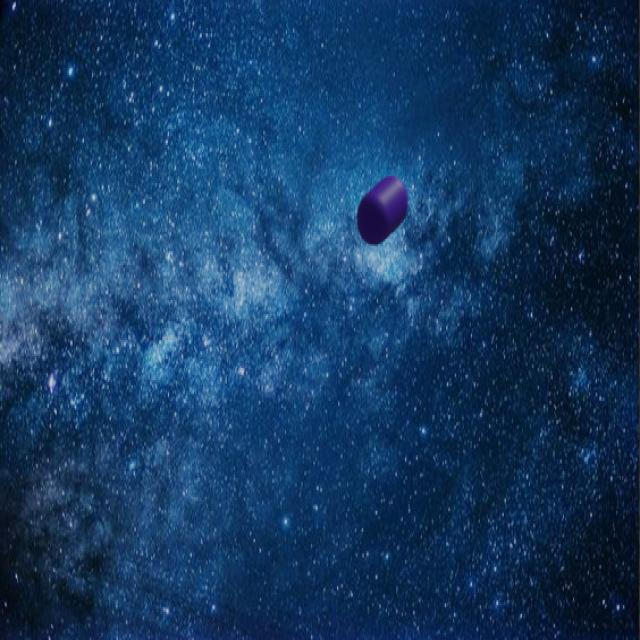large_debris: (358, 170, 410, 248)
